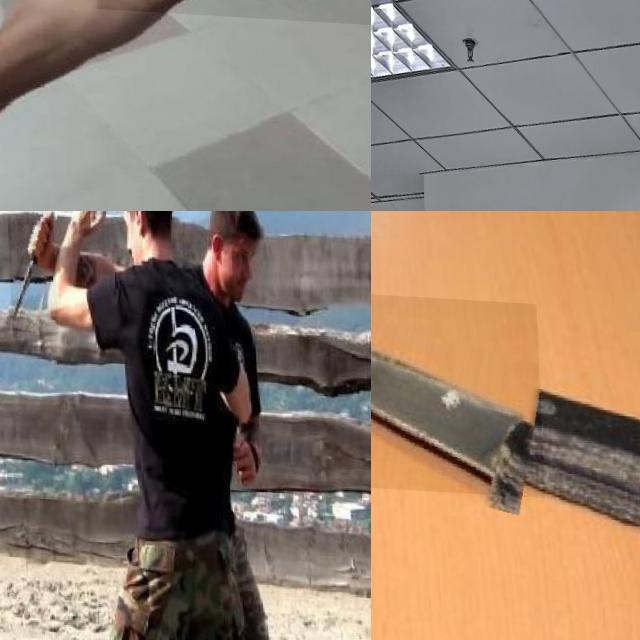-: (371, 280, 574, 493), (84, 0, 371, 137), (6, 211, 56, 331)
